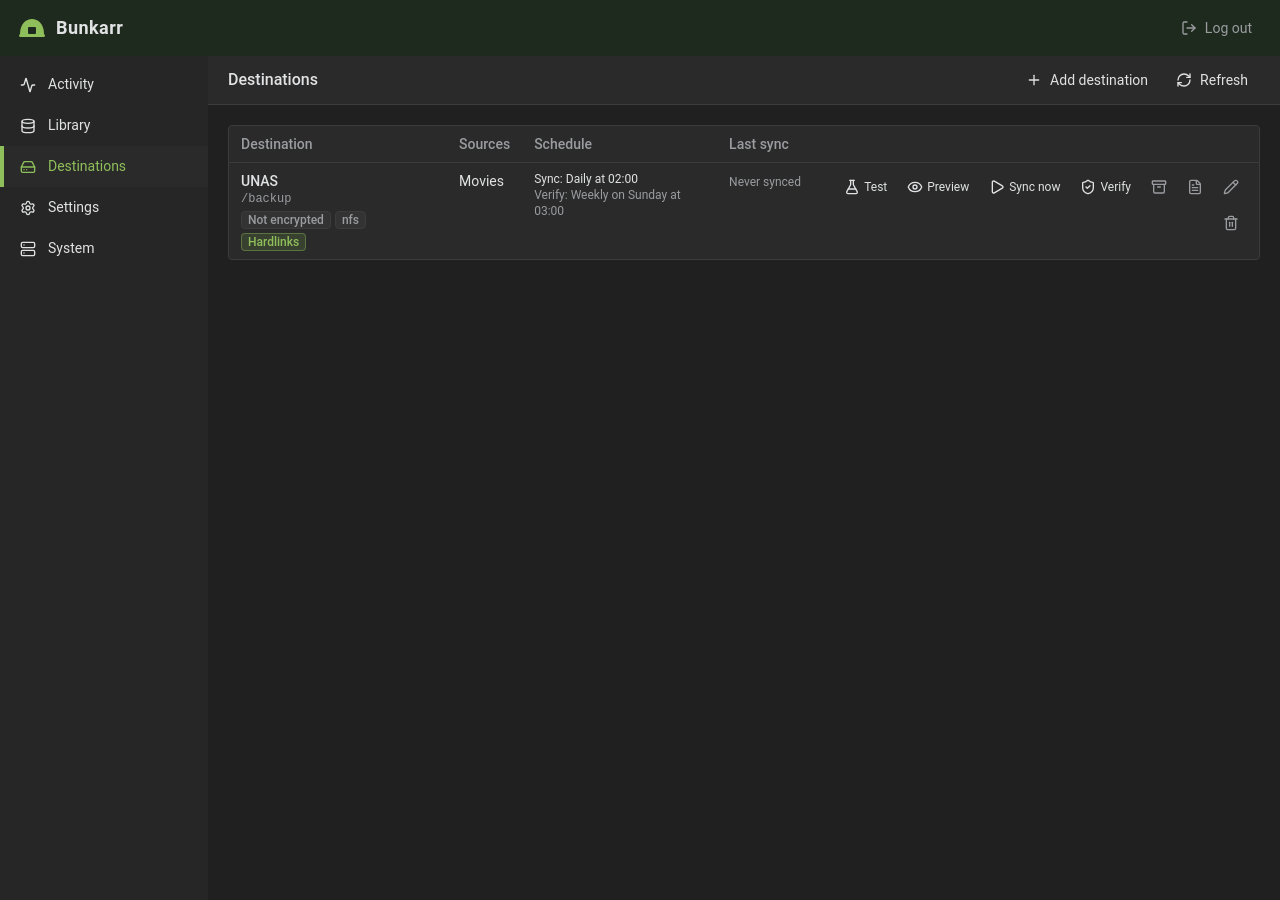
Test: Destination dialogs › names a snapshot whose Plex server was deleted
Click the button named "Snapshots on UNAS": {"x": 1159, "y": 187} [1143,171,1175,203]
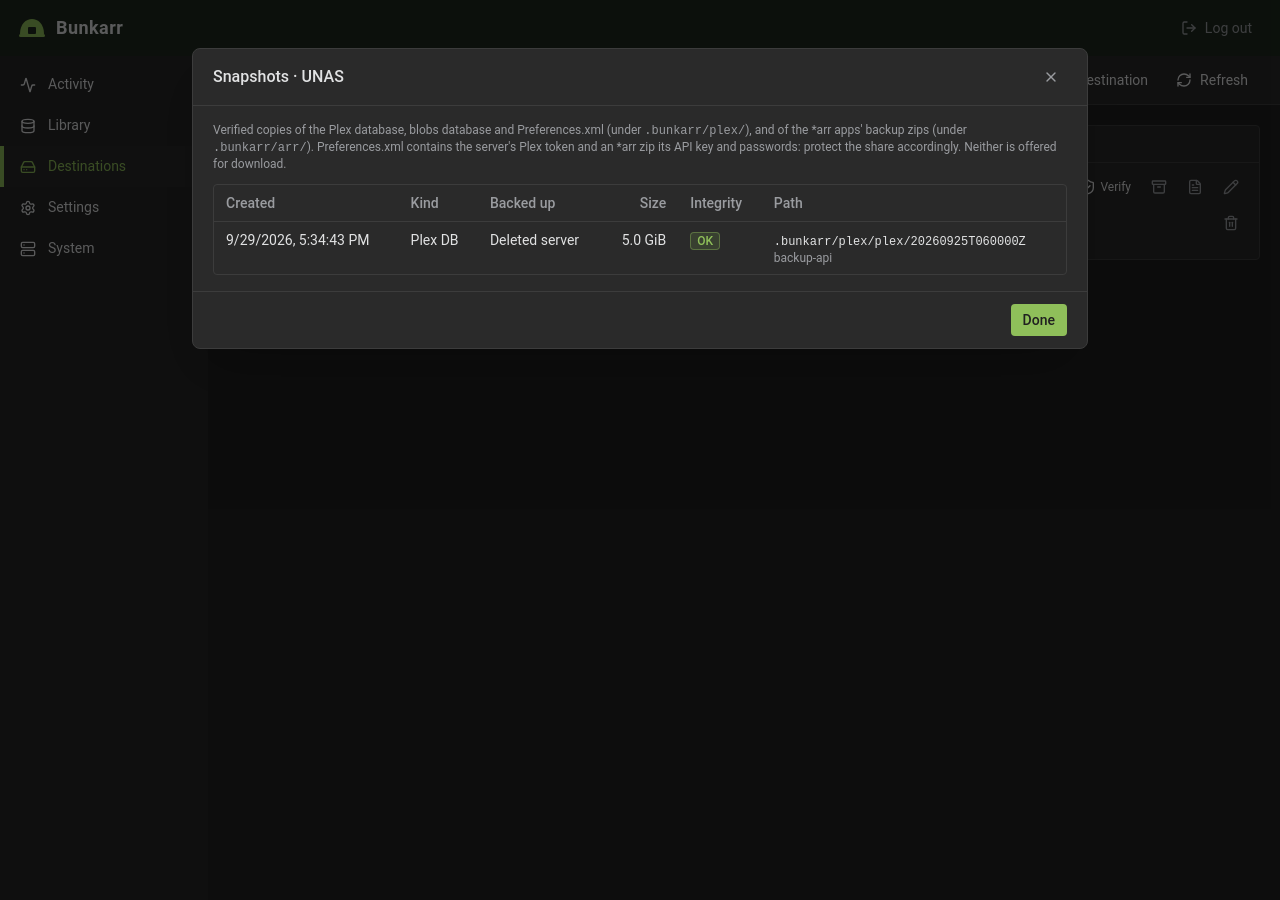
Now the text "Deleted server" is shown, box [478,222,603,274]
